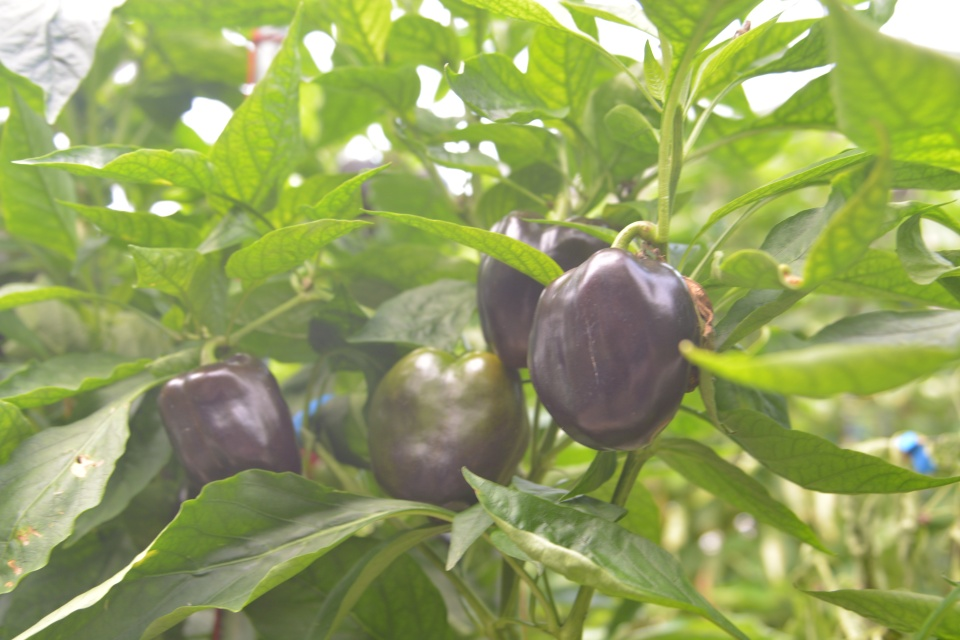fruit: (524, 243, 700, 455), (364, 343, 533, 526), (476, 215, 612, 372), (156, 349, 303, 491)
